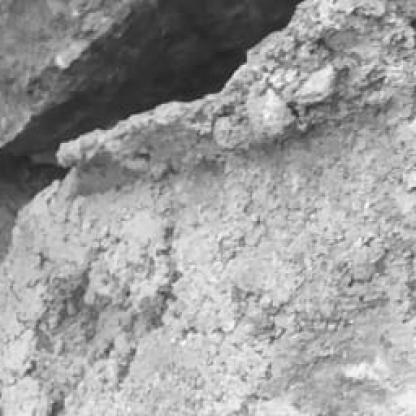cementitious_debris: (1, 3, 413, 414)
